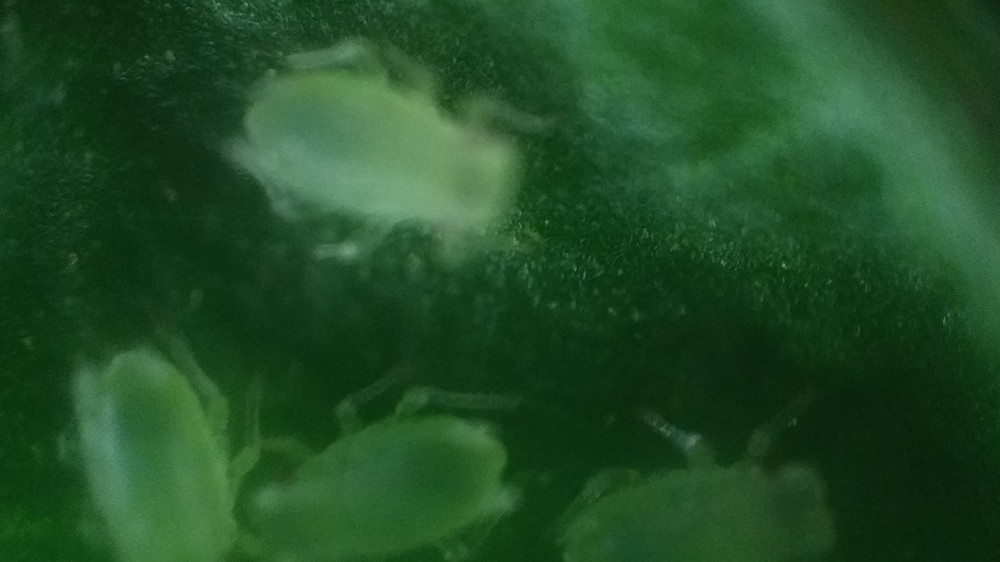Pulgon: (219, 31, 575, 280), (238, 358, 549, 562), (555, 392, 842, 562), (65, 320, 253, 562)
